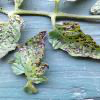Tomato Septoria leaf spot: (11, 28, 50, 97), (50, 22, 100, 61), (0, 12, 25, 63)
